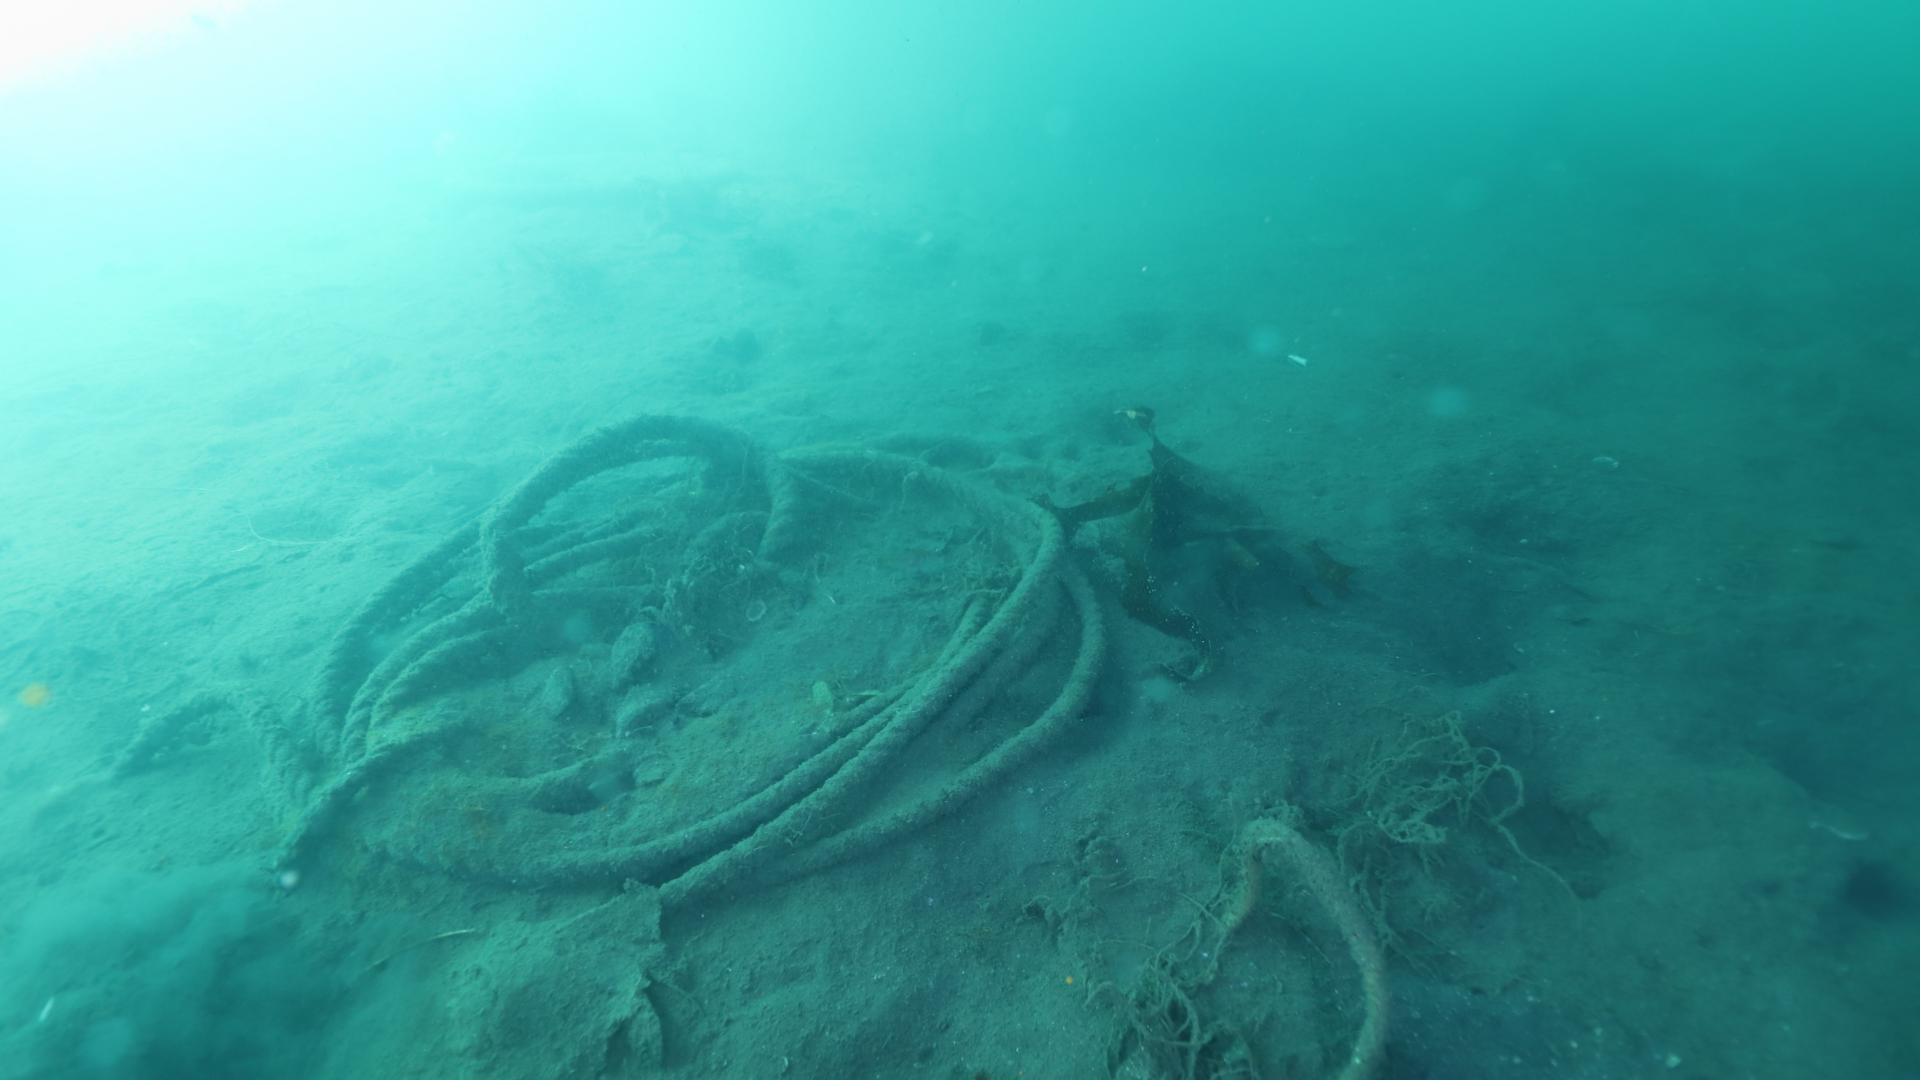bundle of ropes: (109, 410, 1109, 909)
